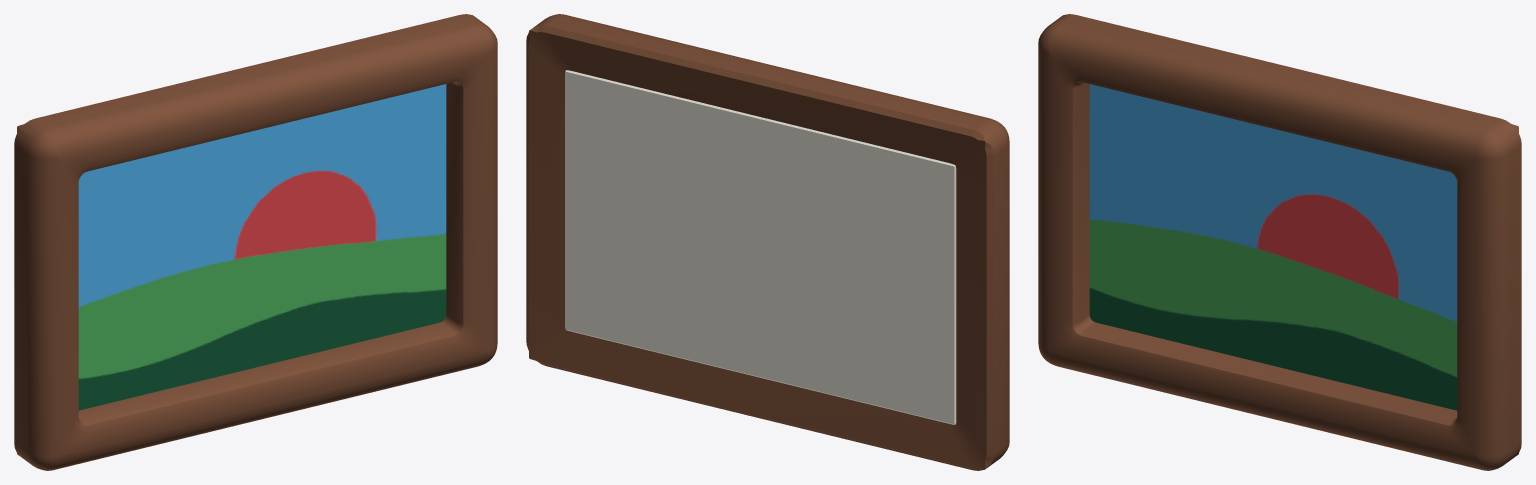
The model's file is quadro_nascer_colina.glb.
3 views of the same model, side by side, from view 1: azimuth 30°, elevation 25°; view 2: azimuth 150°, elevation 25°; view 3: azimuth 330°, elevation 25° (orthographic).
Visible parts, largest first — view 1: quadro_nascer_colina; view 2: quadro_nascer_colina; view 3: quadro_nascer_colina.
Boxes of the visible parts, left/top/right/bottom form: quadro_nascer_colina: left=14, top=14, right=497, bottom=470; quadro_nascer_colina: left=526, top=14, right=1009, bottom=470; quadro_nascer_colina: left=1038, top=14, right=1521, bottom=470.
Size of the model in its own units: 0.296 by 0.206 by 0.03.
2 materials, 2 textured.
